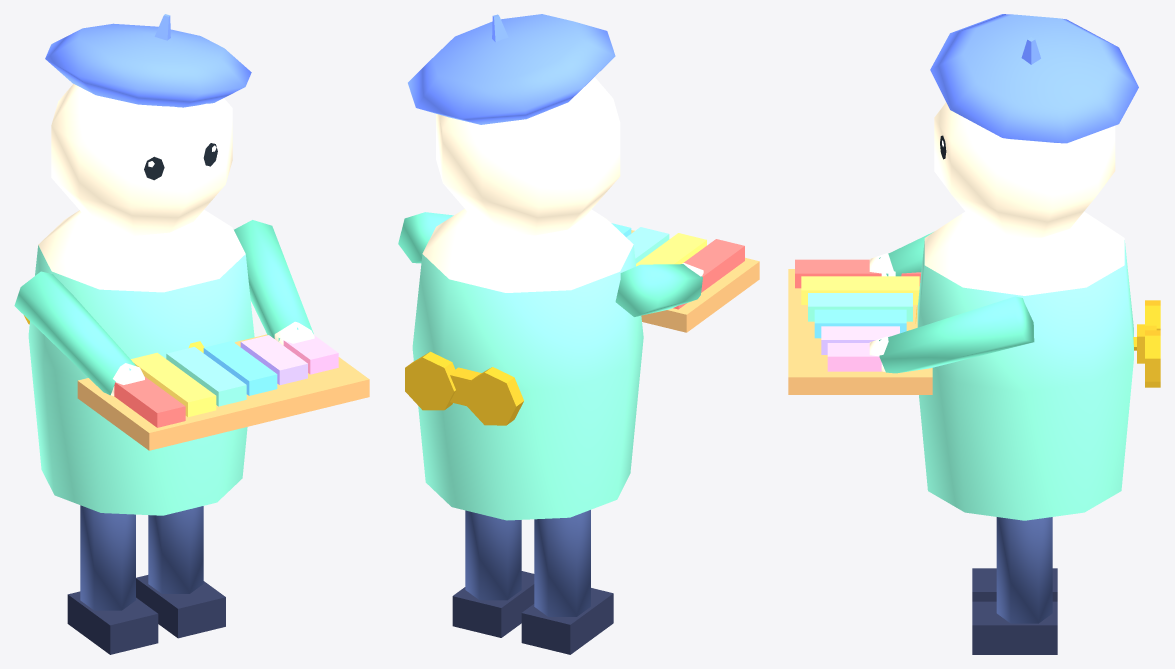
File: band-glock.glb
The picture shows the model from 3 angles, left to right: view 1: azimuth 30°, elevation 25°; view 2: azimuth 150°, elevation 25°; view 3: azimuth 270°, elevation 25°; orthographic projection.
Visible parts, largest first — view 1: band-glock; view 2: band-glock; view 3: band-glock.
Part boxes in pixels (x1,y1,x2,y2): band-glock: (14, 14, 369, 654); band-glock: (398, 14, 759, 654); band-glock: (788, 14, 1160, 654).
Bounding box in the file's own units: 0.9016 × 2.02 × 1.13.
